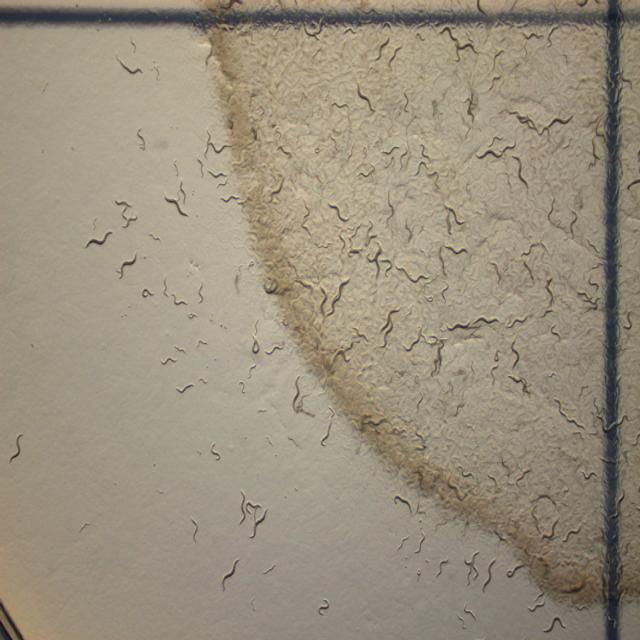filarid: (554, 399, 585, 429), (165, 179, 188, 216), (326, 279, 349, 314), (448, 315, 499, 330), (476, 142, 516, 158), (512, 155, 529, 189), (366, 242, 382, 278), (321, 405, 335, 445), (116, 252, 137, 278), (222, 559, 239, 590), (85, 230, 112, 249), (482, 559, 496, 591), (9, 434, 22, 462), (269, 177, 284, 201), (544, 616, 566, 632), (329, 204, 349, 221), (394, 494, 411, 513), (511, 339, 520, 368), (320, 287, 328, 318), (445, 245, 468, 255), (570, 210, 578, 238), (265, 344, 284, 355), (210, 442, 220, 460), (176, 384, 194, 394), (278, 145, 291, 158), (221, 195, 240, 202), (161, 357, 176, 365), (142, 287, 154, 296), (239, 380, 245, 393)
